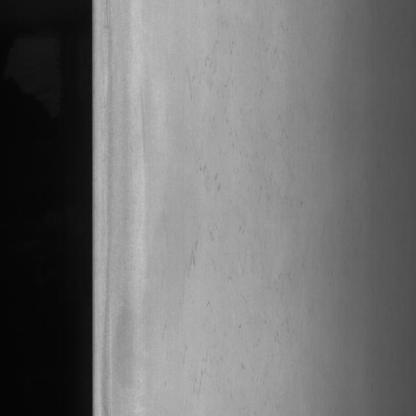silk_spot: (176, 32, 262, 321)
